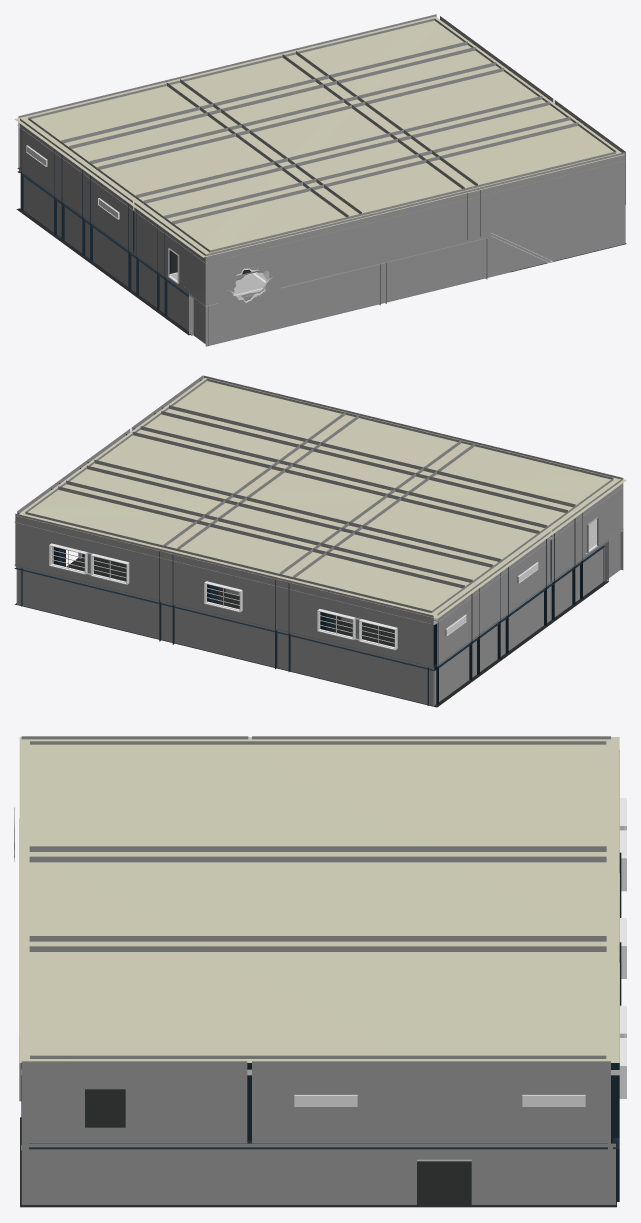
File: SM_H_Building_Tide_Library_01_ATLAS.fbx
3 renders of one model, top to bottom at view 1: azimuth 30°, elevation 25°; view 2: azimuth 150°, elevation 25°; view 3: azimuth 270°, elevation 25°, orthographic. The views are drawn at different scales.
Parts seen in each view (by area): view 1: SM_H_Building_Tide_Library_01_ATLAS; view 2: SM_H_Building_Tide_Library_01_ATLAS; view 3: SM_H_Building_Tide_Library_01_ATLAS.
Boxes of the visible parts, bbox=[...] form: SM_H_Building_Tide_Library_01_ATLAS: bbox=[14, 14, 626, 346]; SM_H_Building_Tide_Library_01_ATLAS: bbox=[14, 375, 626, 707]; SM_H_Building_Tide_Library_01_ATLAS: bbox=[14, 736, 626, 1207].
Size of the model in its own units: 4092 by 3223 by 872.
